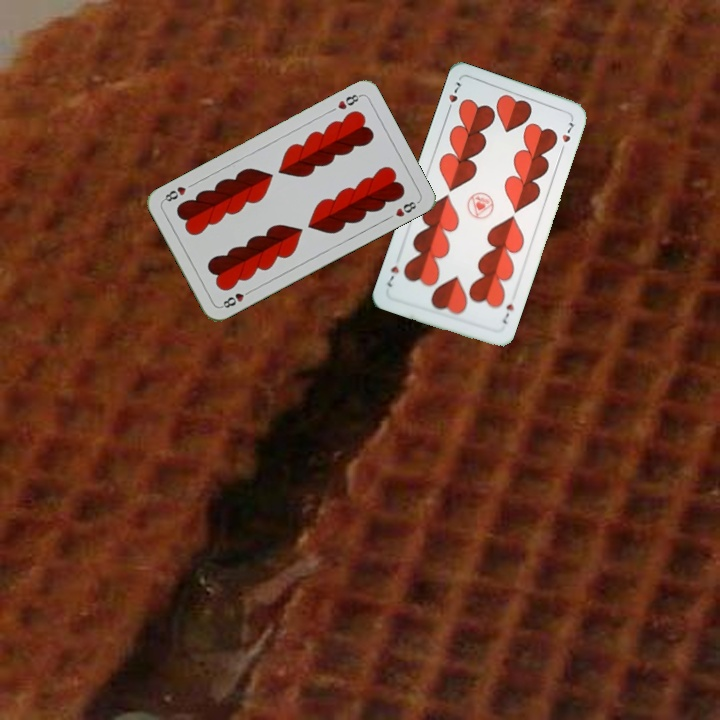H7: (443, 77, 463, 116), (498, 300, 517, 326)
H8: (217, 286, 254, 311), (333, 90, 364, 112)
